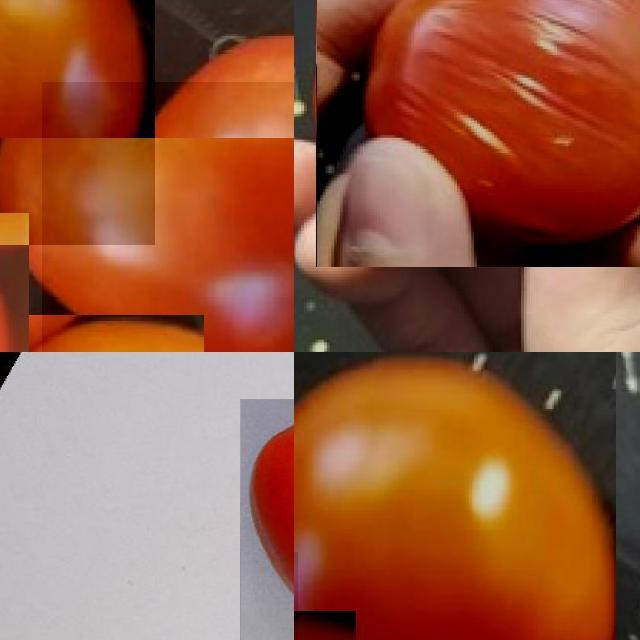Fresh Tomato: (294, 352, 615, 640), (42, 82, 294, 352), (0, 0, 154, 244), (240, 398, 294, 640)
Rotten Tomato: (316, 0, 640, 266)
